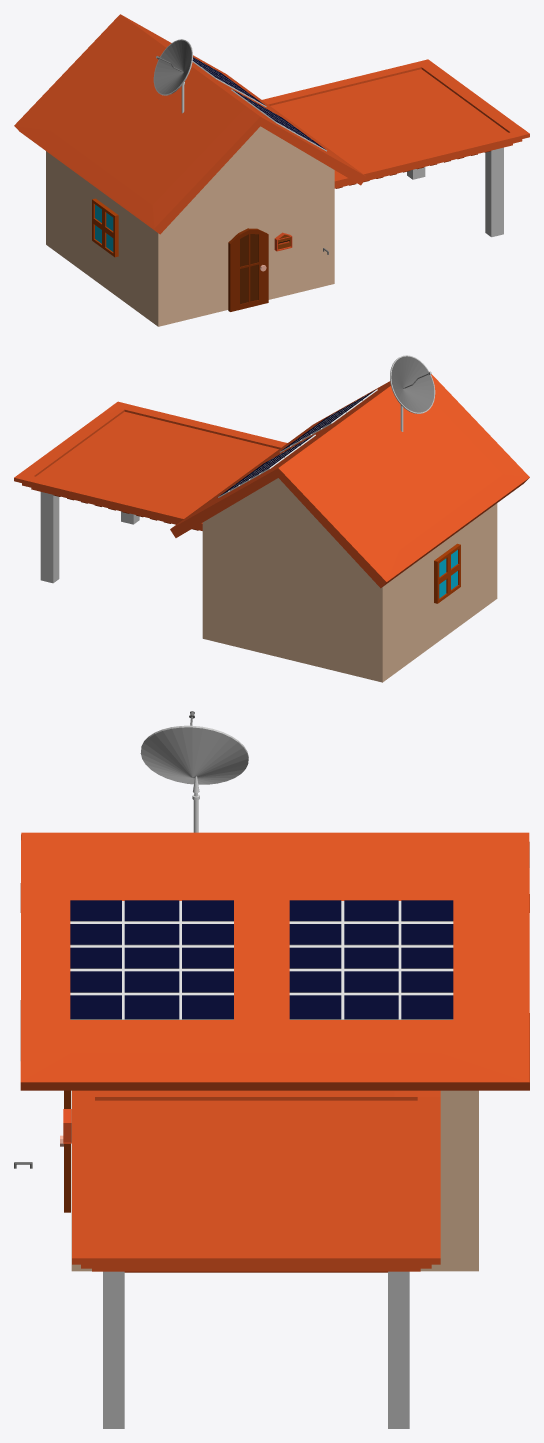
Rendered from casaarnold.fbx.
3 renders of one model, top to bottom at view 1: azimuth 30°, elevation 25°; view 2: azimuth 150°, elevation 25°; view 3: azimuth 270°, elevation 25°, orthographic. The views are drawn at different scales.
Visible parts, largest first — view 1: Cube, Cube.007, Cube.001, Cone, Cube.010, Cube.005, Cube.006; view 2: Cube, Cube.007, Cone, Cube.010, Cube.005, Cube.006; view 3: Cube, Cube.007, Cube.006, Cube.005, Cone.
Part boxes in pixels (left/top/right/bottom): Cube: left=14, top=14, right=366, bottom=326; Cube.007: left=262, top=59, right=529, bottom=237; Cube.001: left=228, top=228, right=268, bottom=311; Cone: left=153, top=39, right=192, bottom=95; Cube.010: left=92, top=198, right=118, bottom=257; Cube.005: left=231, top=89, right=326, bottom=151; Cube.006: left=192, top=57, right=266, bottom=106; Cube: left=170, top=374, right=529, bottom=682; Cube.007: left=14, top=401, right=287, bottom=583; Cone: left=390, top=355, right=435, bottom=413; Cube.010: left=434, top=543, right=460, bottom=603; Cube.005: left=280, top=389, right=377, bottom=452; Cube.006: left=218, top=434, right=315, bottom=497; Cube: left=20, top=832, right=529, bottom=1271; Cube.007: left=72, top=1090, right=440, bottom=1428; Cube.006: left=289, top=900, right=453, bottom=1019; Cube.005: left=70, top=900, right=233, bottom=1019; Cone: left=140, top=711, right=248, bottom=784.
Bounding box in the file's own units: 442 × 267 × 280.
